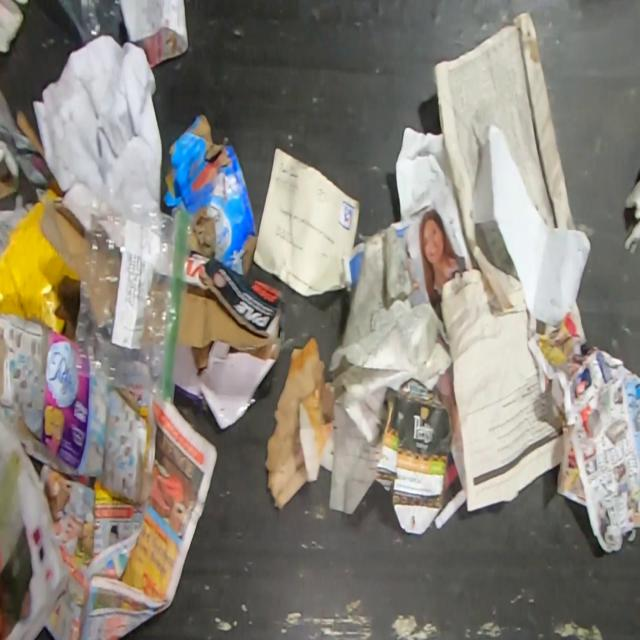cardboard: (0, 311, 158, 507), (172, 250, 283, 430), (162, 114, 258, 276), (374, 378, 452, 535), (0, 92, 57, 265), (36, 205, 86, 284)
soft_plastic: (69, 186, 195, 407), (57, 0, 121, 43)
